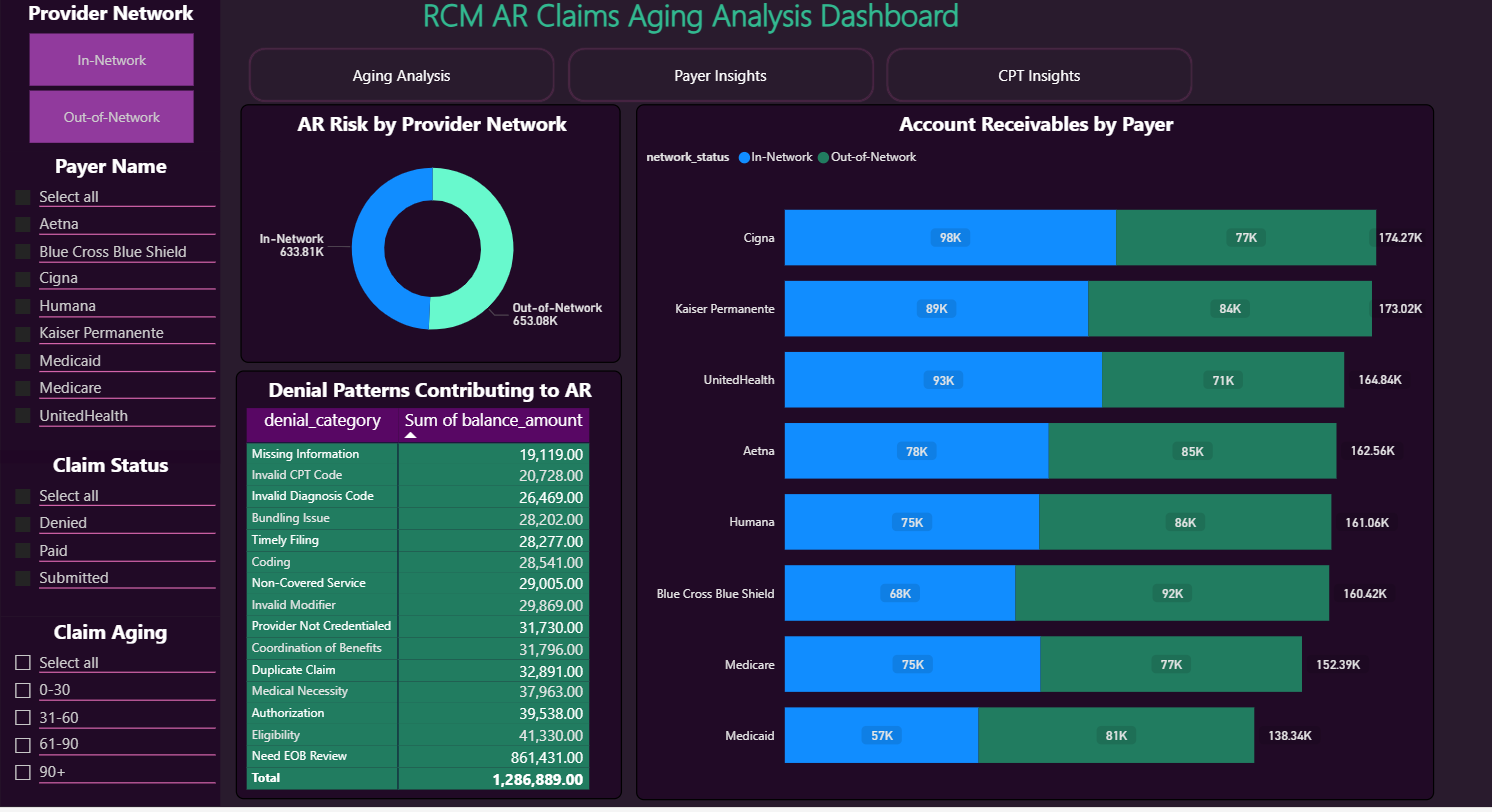

What the dashboard file says about the page in this screenshot:
{"tool":"powerbi","page":{"name":"Payer Insights","canvas":[1280,720],"ordinal":1},"visuals":[{"type":"slicer","title":"Payer Name","fields":{"Values":["ar_aging_project_data.payer_name"]},"box":[7.1,143.6,193.3,274],"z":0},{"type":"slicer","title":"Claim Aging","fields":{"Values":["ar_aging_project_data.aging_bucket"]},"box":[7.1,553.3,193.3,166.7],"z":1000},{"type":"slicer","title":"Claim Status","fields":{"Values":["ar_aging_project_data.claim_status_filled"]},"box":[7.1,407,193.3,146.3],"z":2000},{"type":"slicer","title":"Provider Network","fields":{"Values":["ar_aging_project_data.network_status"]},"box":[7.1,9.8,193.3,133.9],"z":3000},{"type":"donutChart","title":"AR Risk by Provider Network","fields":{"Category":["ar_aging_project_data.network_status"],"Y":["Sum(ar_aging_project_data.balance_amount)"]},"box":[218.1,102.9,334.3,227],"z":4000},{"type":"textbox","box":[208.4,0,792.7,47],"z":5000},{"type":"pivotTable","title":"Denial Patterns Contributing to AR","fields":{"Rows":["ar_aging_project_data.denial_category"],"Values":["Sum(ar_aging_project_data.balance_amount)"]},"box":[213.7,336.9,338.7,376.8],"z":6000},{"type":"barChart","title":"Account Receivables by Payer","fields":{"Category":["ar_aging_project_data.payer_name"],"Y":["Sum(ar_aging_project_data.balance_amount)"],"Series":["ar_aging_project_data.network_status"]},"box":[565.7,102.9,700.5,610.9],"z":7000},{"type":"pageNavigator","box":[224.3,47,830.8,49.7],"z":8000}]}

Visuals, with their boxes on the page's 1280x720 design canvas (x1, y1, x2, y2). These are canvas units, not pixel positions in the 1492x812 screenshot, which may show the page scaled, cropped or inside an application window:
"Payer Name" slicer: <region>7, 144, 200, 418</region>
"Claim Aging" slicer: <region>7, 553, 200, 720</region>
"Claim Status" slicer: <region>7, 407, 200, 553</region>
"Provider Network" slicer: <region>7, 10, 200, 144</region>
"AR Risk by Provider Network" donutChart: <region>218, 103, 552, 330</region>
textbox: <region>208, 0, 1001, 47</region>
"Denial Patterns Contributing to AR" pivotTable: <region>214, 337, 552, 714</region>
"Account Receivables by Payer" barChart: <region>566, 103, 1266, 714</region>
pageNavigator: <region>224, 47, 1055, 97</region>
